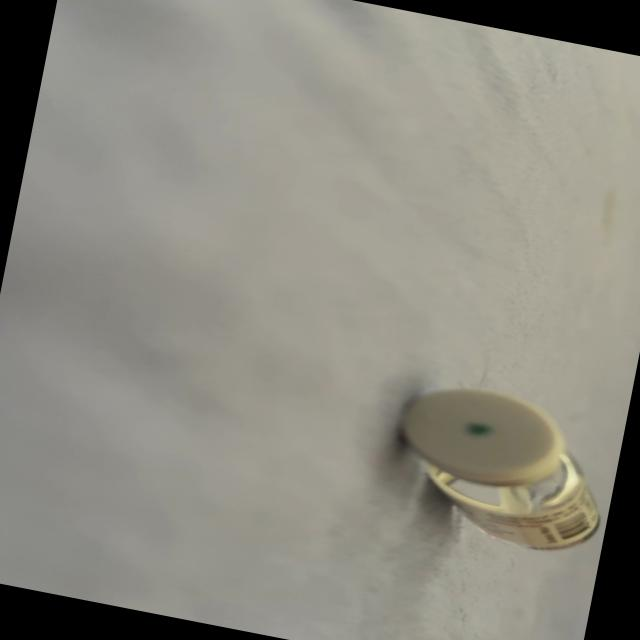fentanl_citrat: (382, 377, 616, 558)
